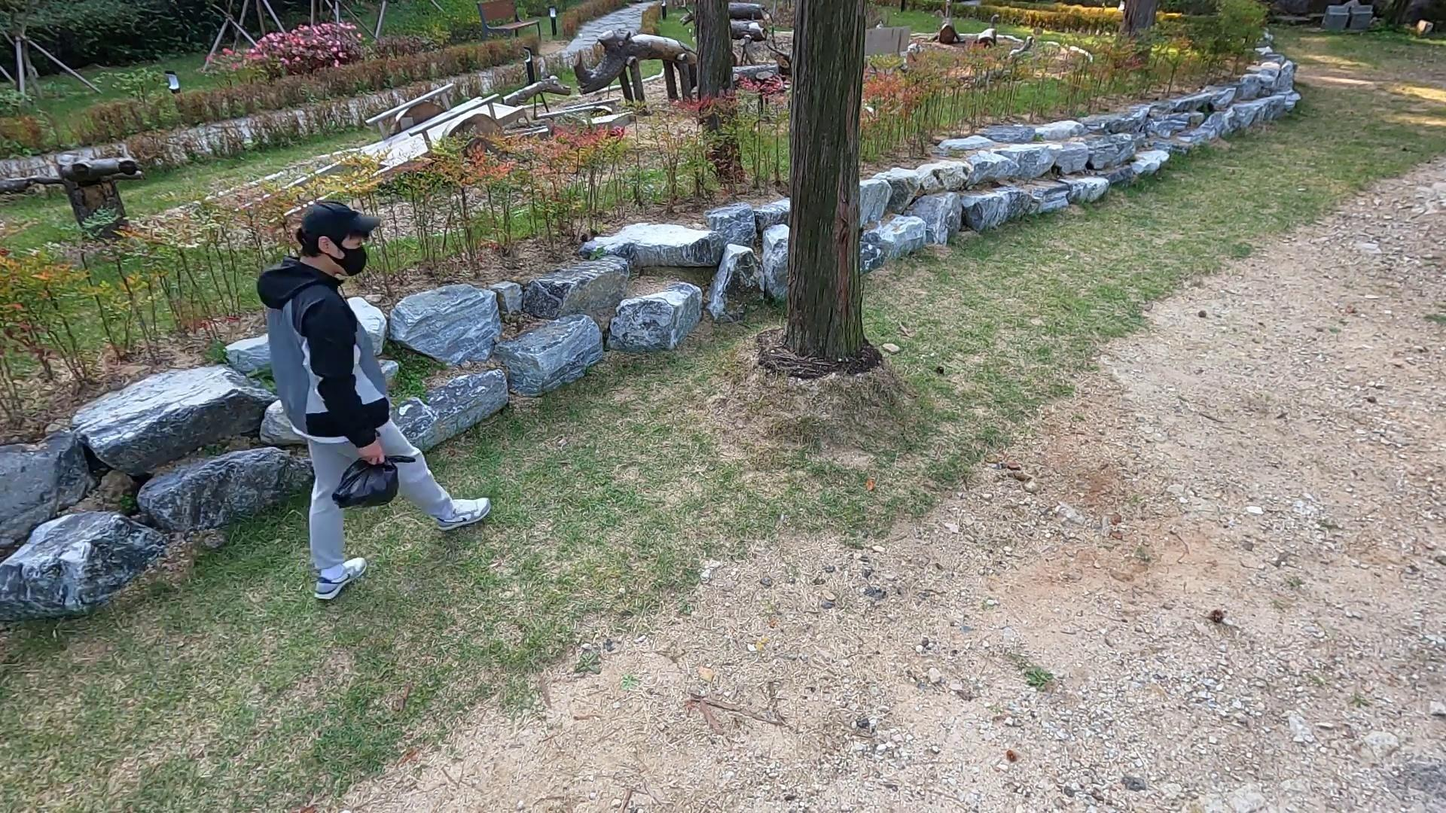person: (258, 203, 493, 599)
trash: (336, 451, 411, 510)
